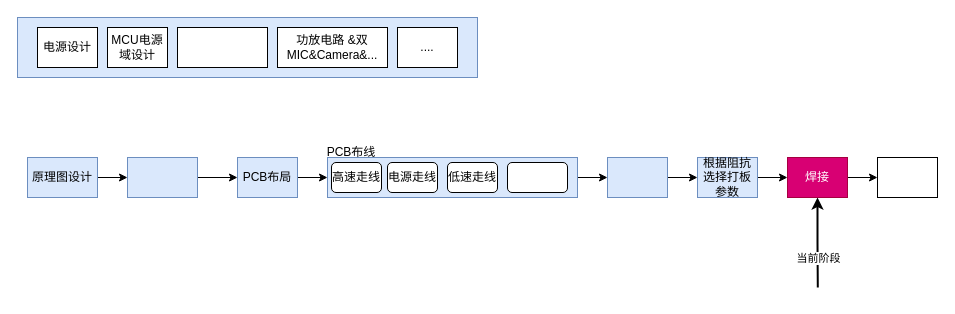
Some shapes in this 955 by 314 pixel diagram are drawn without their labels. Each missing label, with the centre of its shape:
MCU&Wifi&BLE 通信&电源设计: (x=222, y=47)
原理图验证&检查: (x=162, y=177)
天线走线: (x=537, y=177)
敷铜&检查: (x=637, y=177)
验证&输出: (x=907, y=177)
